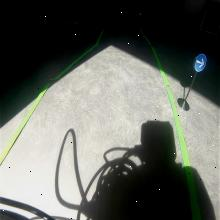right: (194, 52, 206, 72)
